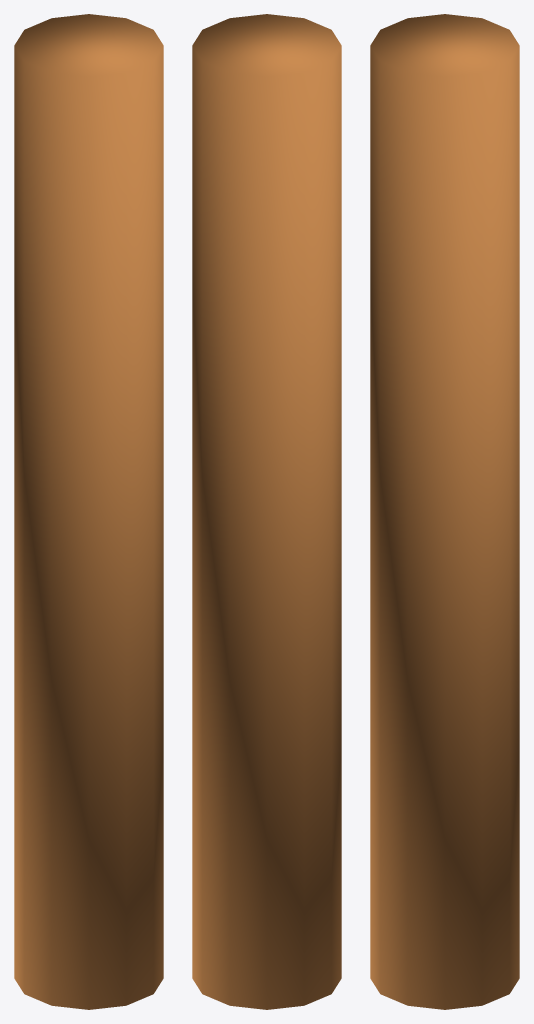
Rendered from chime.glb.
3 renders of one model, left to right at view 1: azimuth 30°, elevation 25°; view 2: azimuth 150°, elevation 25°; view 3: azimuth 270°, elevation 25°, orthographic.
Parts seen in each view (by area): view 1: Chime; view 2: Chime; view 3: Chime.
Part boxes in pixels (x1=…): Chime: x1=14, y1=14, x2=163, y2=1009; Chime: x1=192, y1=14, x2=341, y2=1009; Chime: x1=370, y1=14, x2=519, y2=1009.
Size of the model in its own units: 0.09 by 0.62 by 0.09.
